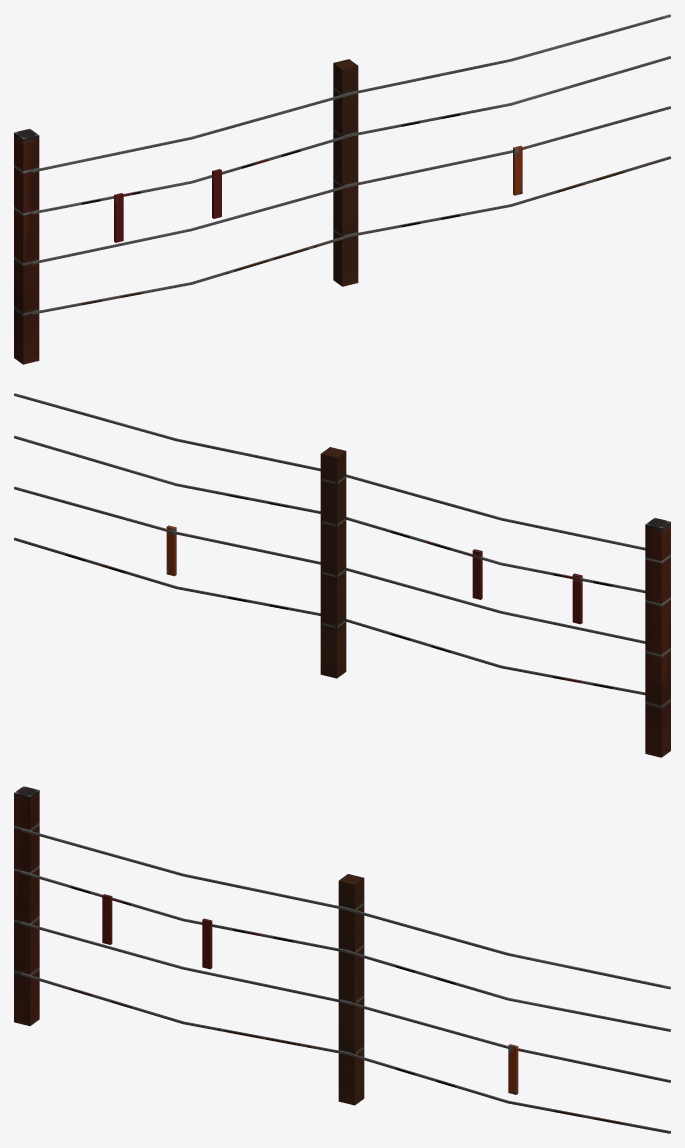
Rendered from wire_fence.glb.
3 views of the same model, one above another, from view 1: azimuth 30°, elevation 25°; view 2: azimuth 150°, elevation 25°; view 3: azimuth 330°, elevation 25° (orthographic).
Visible parts, largest first — view 1: wire_fence; view 2: wire_fence; view 3: wire_fence.
Boxes of the visible parts, bbox=[...] form: wire_fence: bbox=[14, 14, 670, 364]; wire_fence: bbox=[14, 393, 670, 757]; wire_fence: bbox=[14, 786, 670, 1133].
Size of the model in its own units: 4.05 by 1.35 by 0.13.
Materials: 1 (1 with a texture image).
